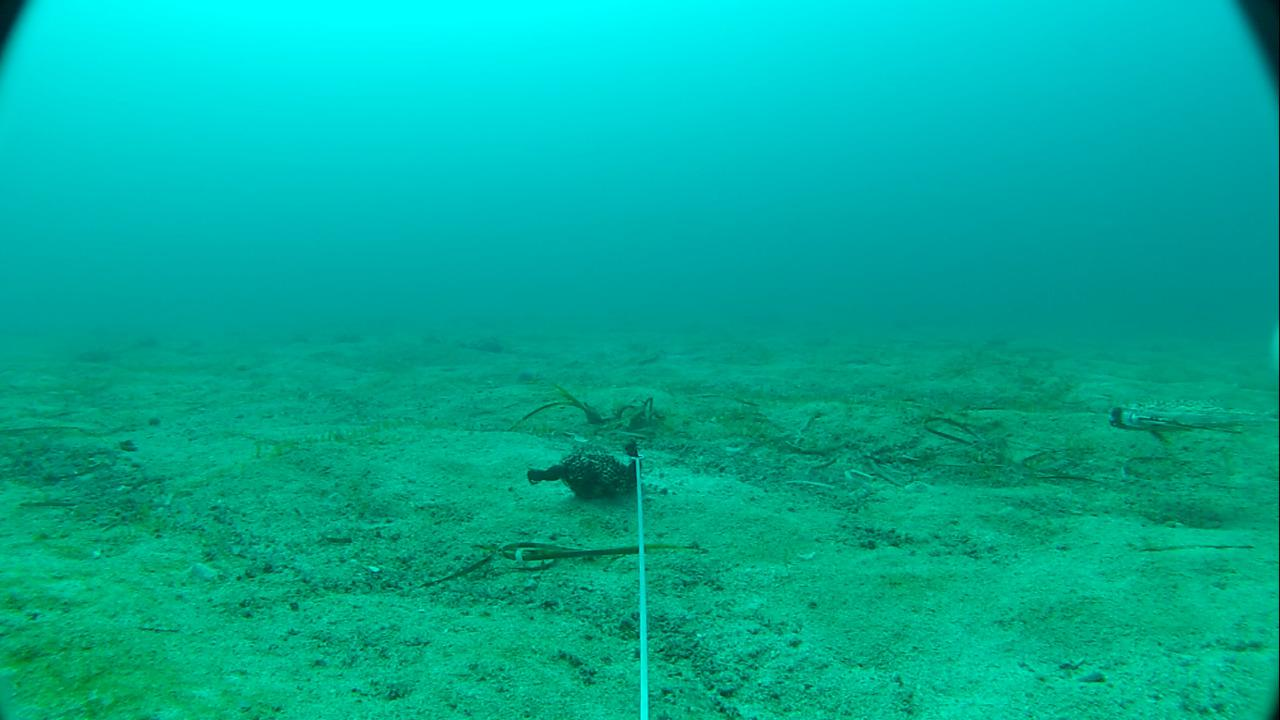dactylopterus: (1101, 397, 1272, 450)
